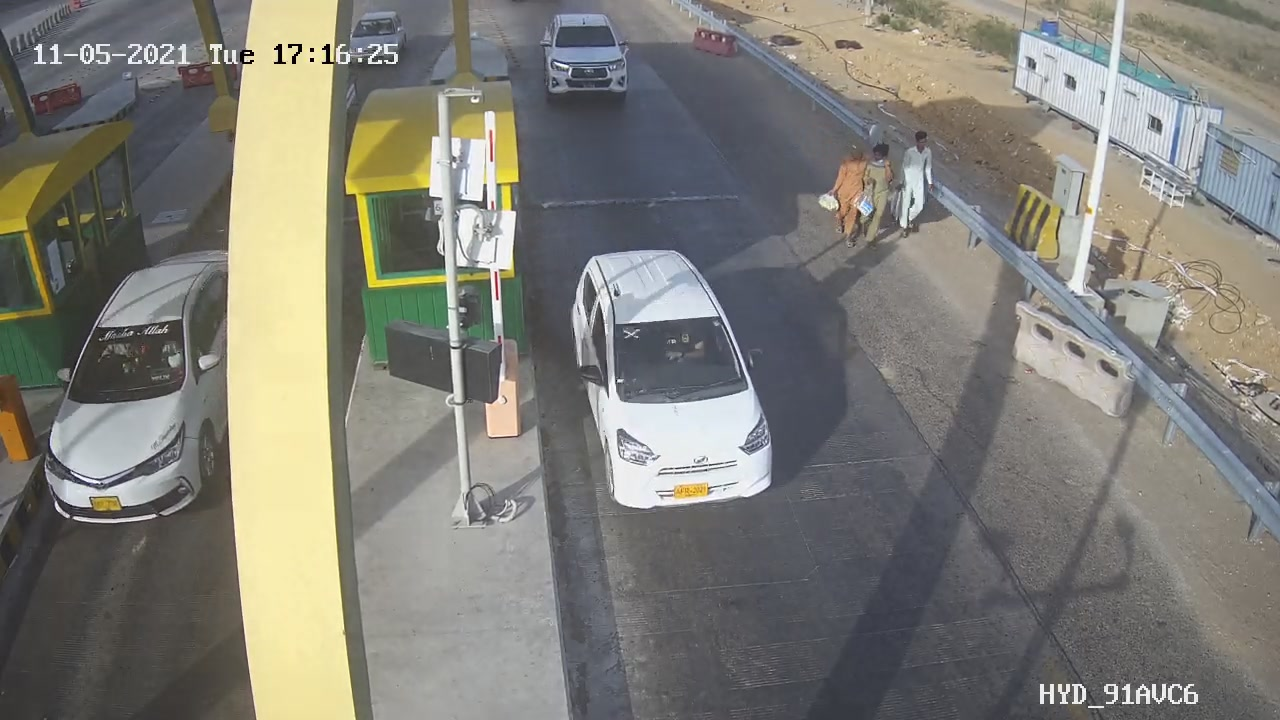F1: (526, 5, 647, 111)
